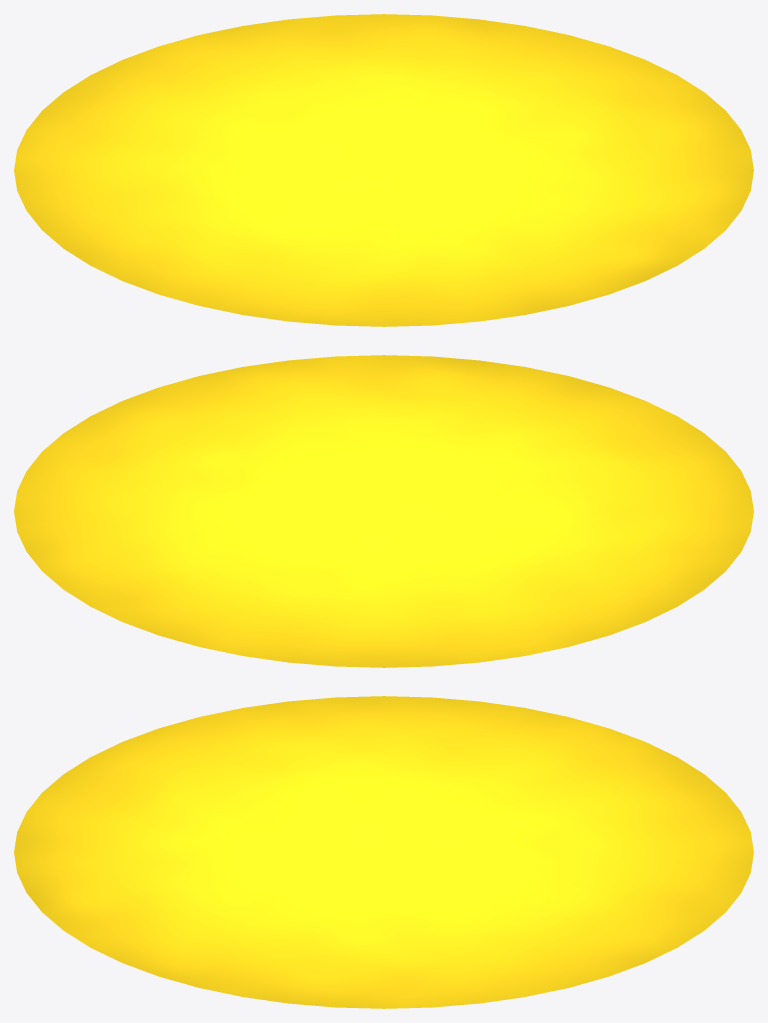
Rendered from mm6_deco_barrel_liquid_yellow.glb.
The picture shows the model from 3 angles, top to bottom: view 1: azimuth 30°, elevation 25°; view 2: azimuth 150°, elevation 25°; view 3: azimuth 270°, elevation 25°; orthographic projection.
Visible parts, largest first — view 1: Liquid; view 2: Liquid; view 3: Liquid.
Part boxes in pixels (<box>): Liquid: <box>14,14,753,326</box>; Liquid: <box>14,355,753,667</box>; Liquid: <box>14,696,753,1008</box>.
Size of the model in its own units: 0.529 by 0 by 0.529.
Materials: 1 (1 with a texture image).
